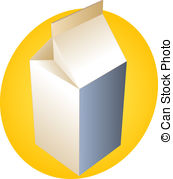carton: (29, 1, 132, 179)
